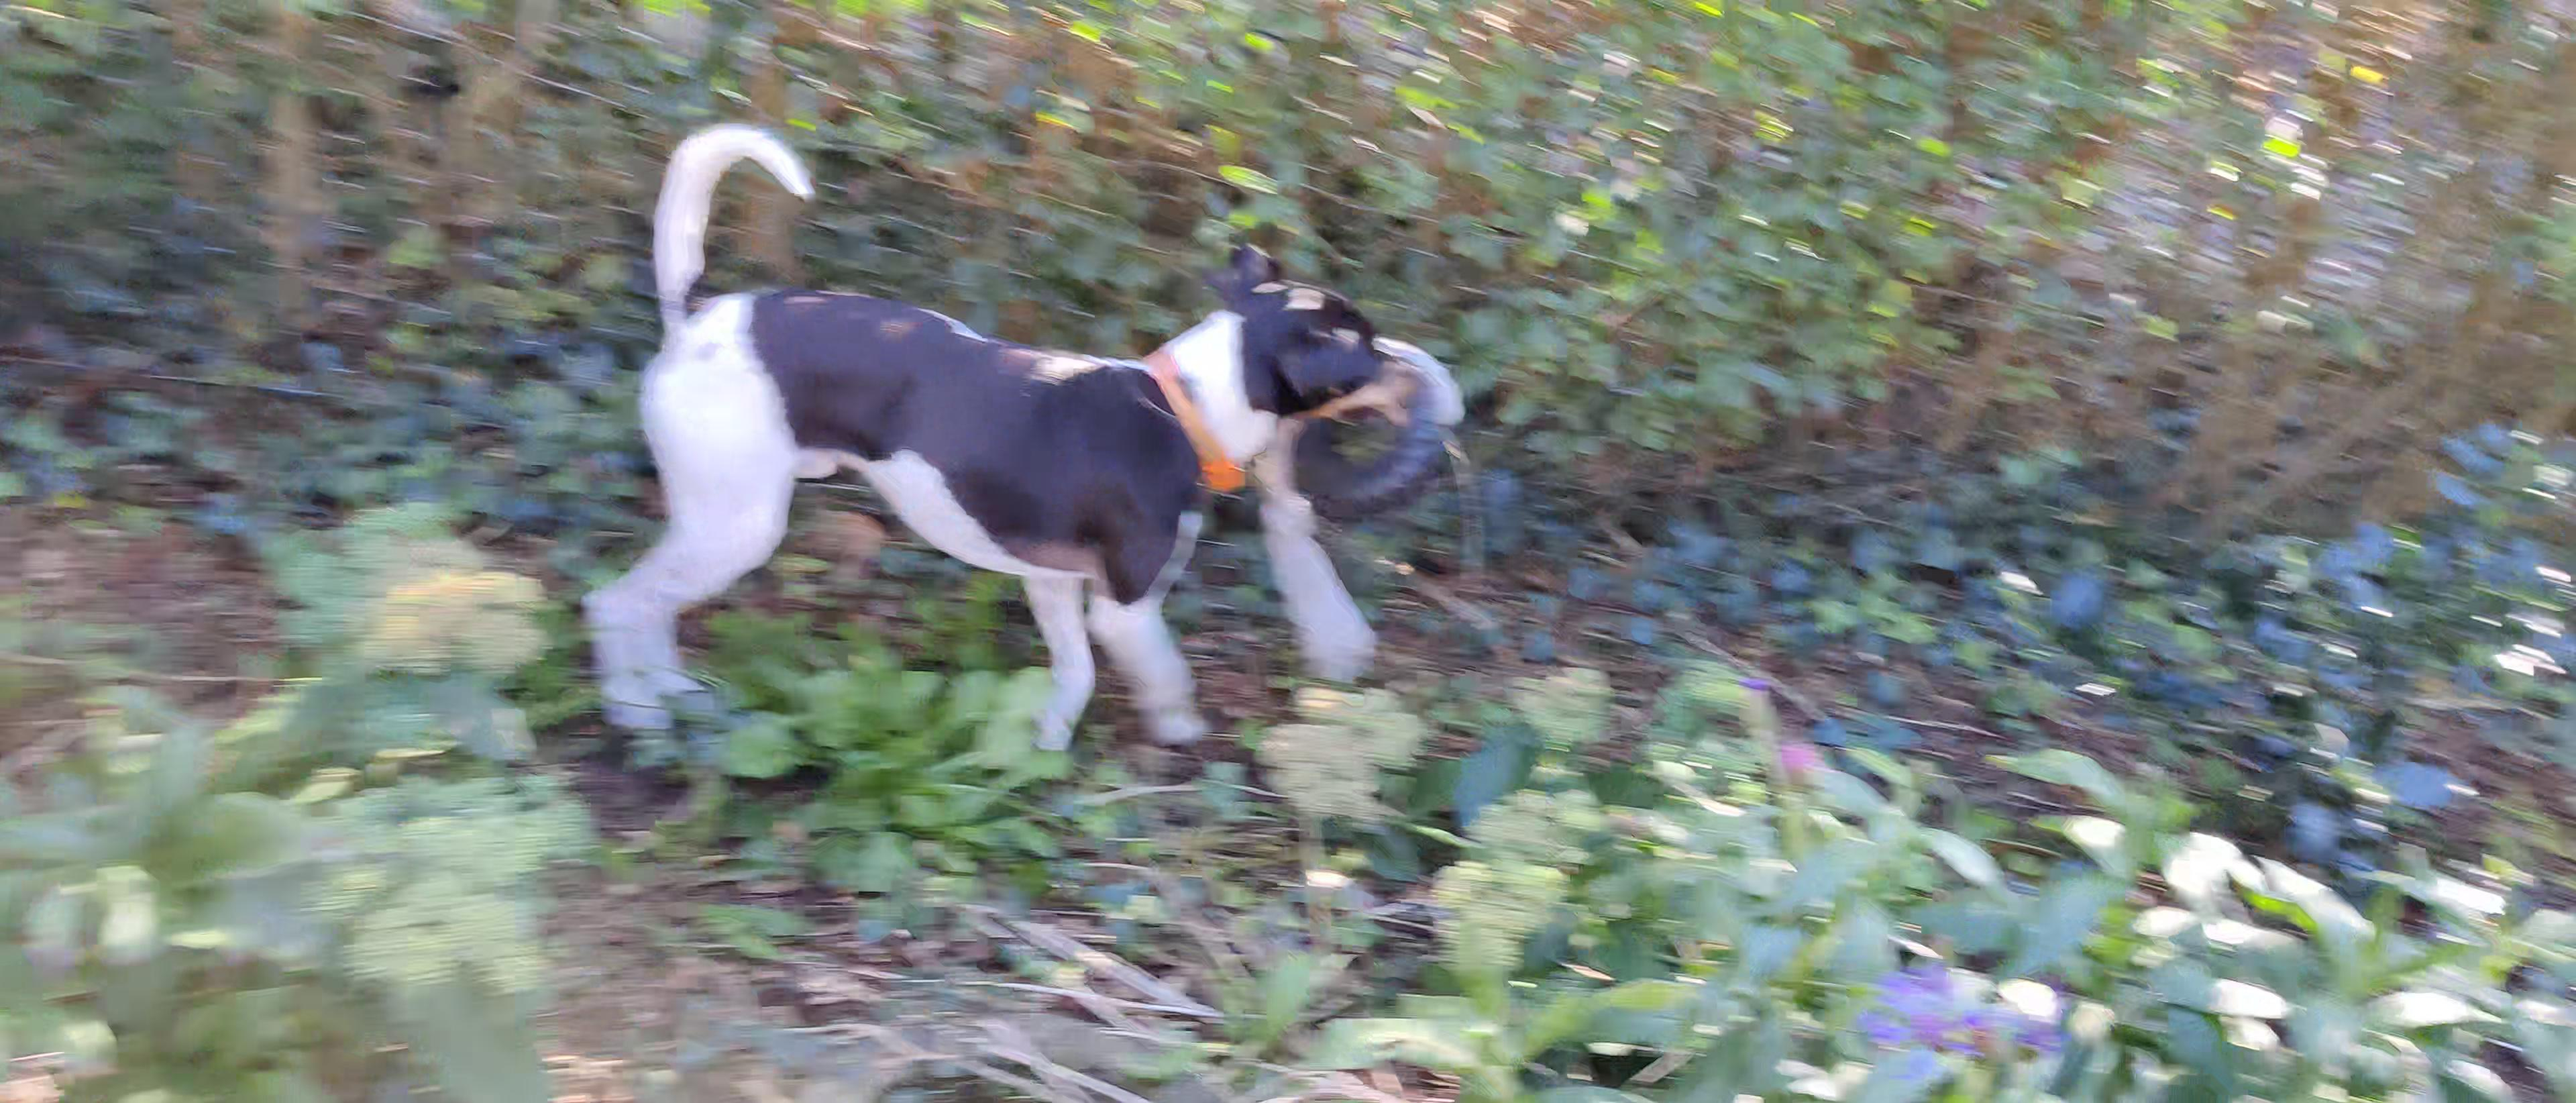Dog: (578, 115, 1431, 763)
